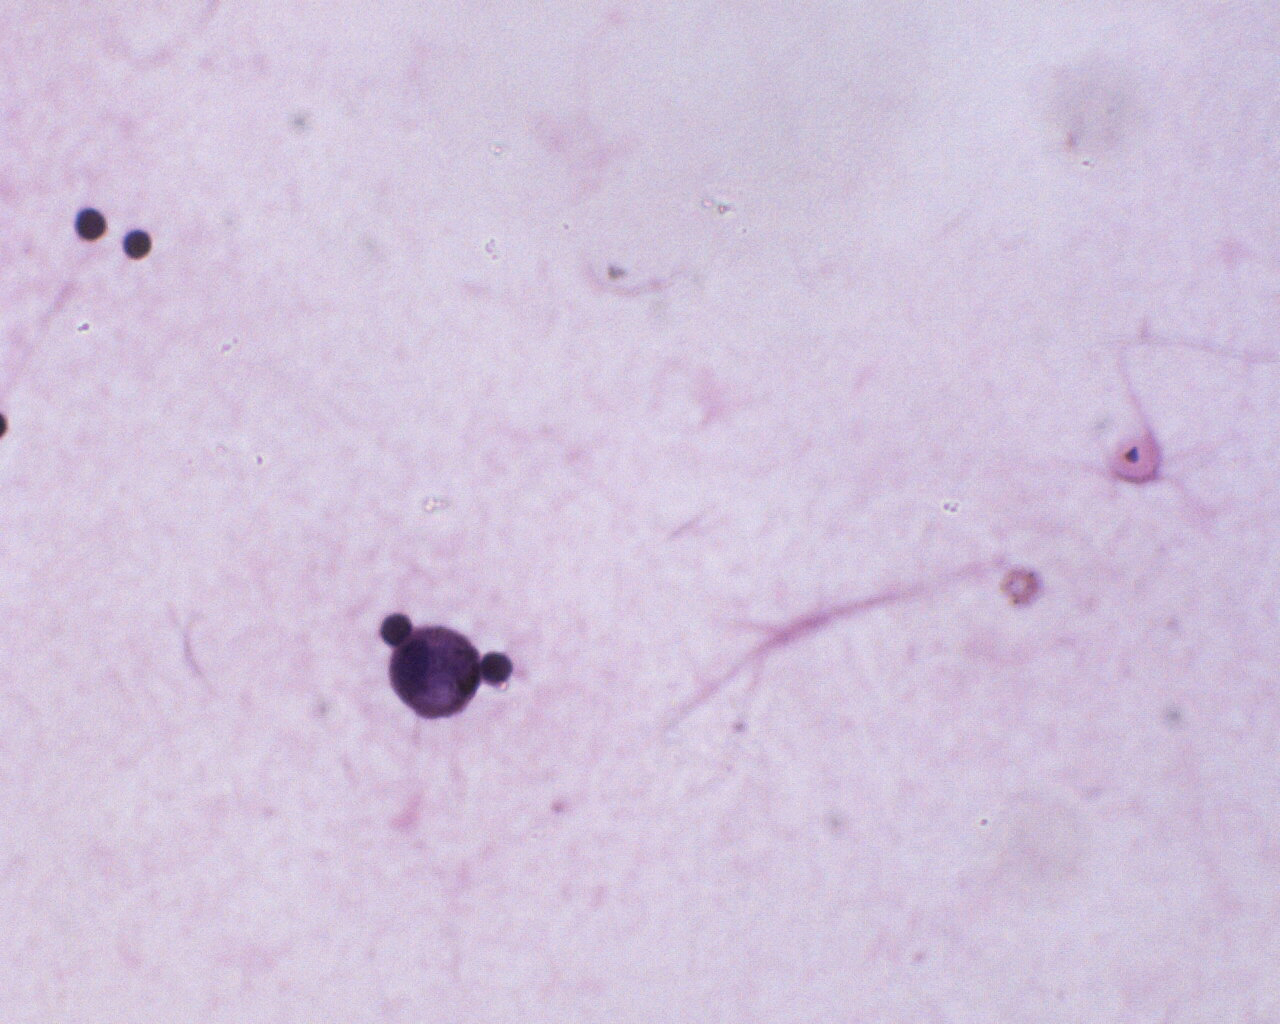histo: (385, 626, 484, 718)
lymph: (68, 204, 113, 249), (372, 606, 418, 650), (478, 645, 521, 686), (119, 225, 155, 265)
